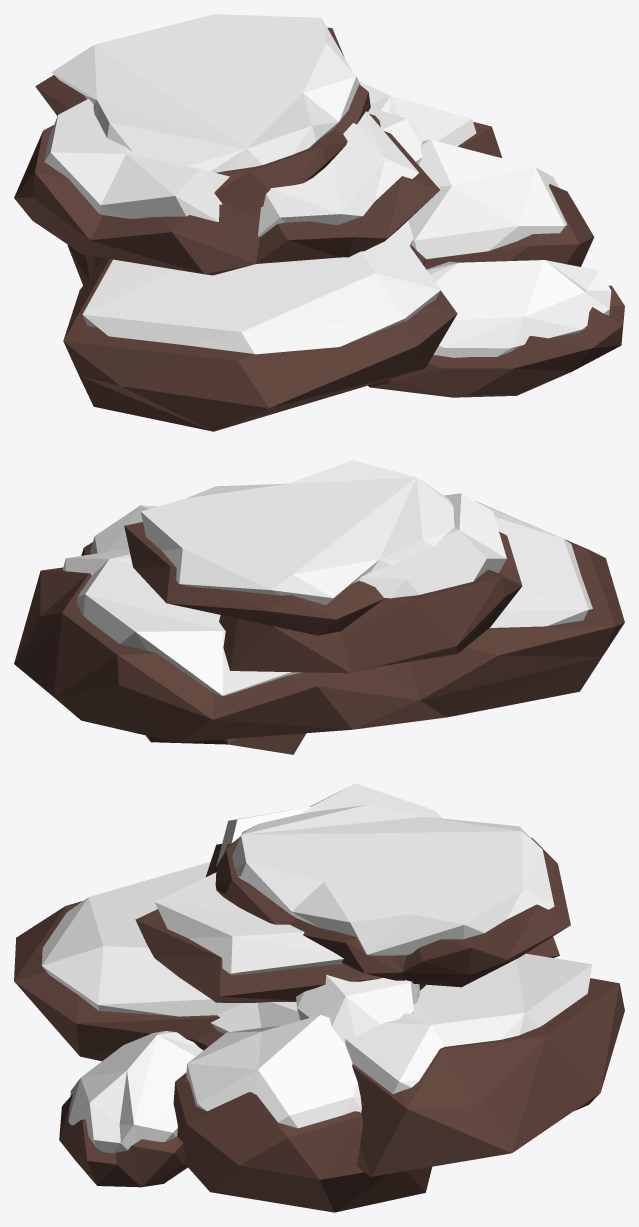
The model's file is snow_rock_025.fbx.
The picture shows the model from 3 angles, top to bottom: view 1: azimuth 30°, elevation 25°; view 2: azimuth 150°, elevation 25°; view 3: azimuth 270°, elevation 25°; orthographic projection. The views are drawn at different scales.
Parts seen in each view (by area): view 1: snow_rock_025; view 2: snow_rock_025; view 3: snow_rock_025.
Part boxes in pixels (x1=…): snow_rock_025: x1=14, y1=14, x2=624, y2=431; snow_rock_025: x1=14, y1=460, x2=624, y2=754; snow_rock_025: x1=14, y1=783, x2=624, y2=1212.
Size of the model in its own units: 650 by 647 by 343.
